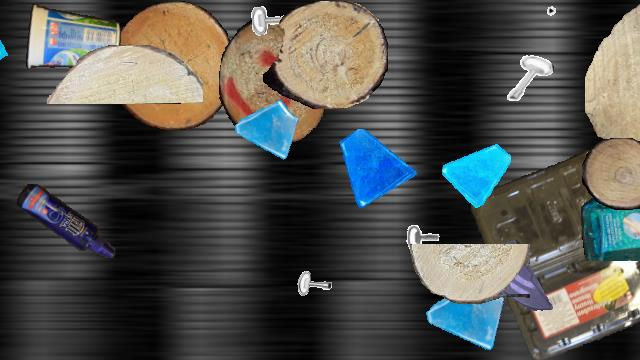glass: (424, 275, 508, 359), (337, 129, 417, 209), (478, 234, 558, 314), (233, 97, 301, 165), (442, 139, 510, 207), (0, 1, 13, 93)
metal: (245, 1, 305, 61), (291, 247, 343, 299), (503, 52, 553, 102), (404, 206, 450, 252), (546, 1, 586, 41), (0, 106, 3, 156)
plastic: (471, 149, 640, 359), (17, 184, 115, 258), (24, 1, 120, 71), (581, 178, 640, 260)
wood: (111, 1, 235, 129), (263, 1, 387, 109), (219, 20, 327, 142), (46, 45, 202, 103), (585, 1, 640, 159), (410, 244, 530, 304), (582, 138, 640, 210)
